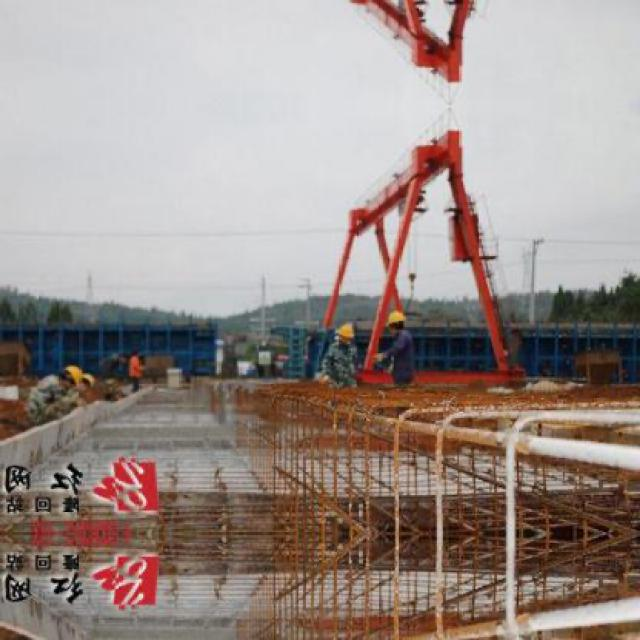helmet: (54, 362, 83, 388), (386, 307, 411, 336), (337, 322, 361, 348), (75, 370, 97, 395)
